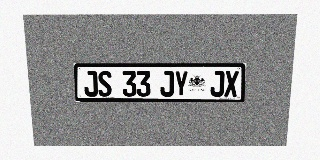3: (122, 71, 136, 97), (136, 71, 150, 97)
J: (83, 71, 98, 97), (160, 71, 174, 97), (210, 71, 224, 97)
S: (97, 71, 112, 97)
X: (224, 71, 239, 97)
Y: (174, 71, 188, 97)
